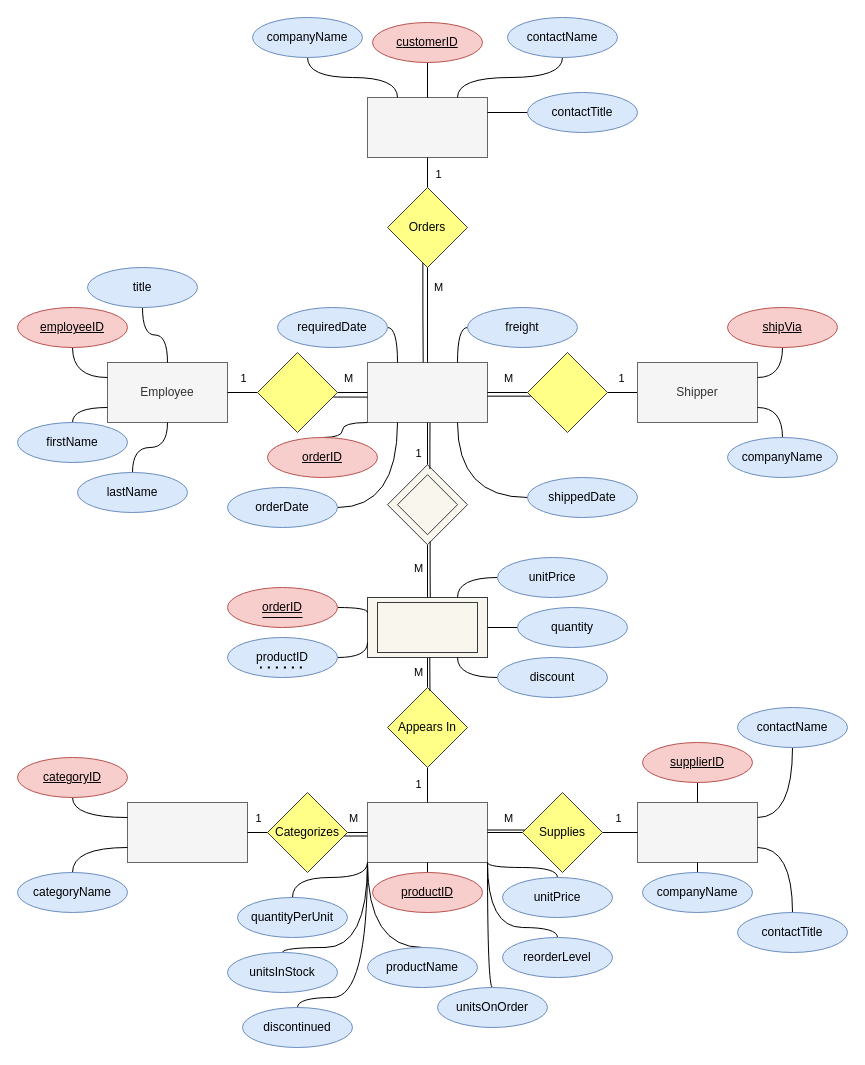
Some shapes in this 865 by 1065 pixel diagram are drawn without their labels. Here are the shapes that lost their labels. From the top down, the centre of each, then its label:
(x=427, y=127): Customer
(x=297, y=392): Handles Orders
(x=427, y=392): Order
(x=567, y=392): Ships Orders
(x=427, y=504): Contains
(x=427, y=627): Order Detail
(x=187, y=832): Category
(x=427, y=832): Product
(x=697, y=832): Supplier
